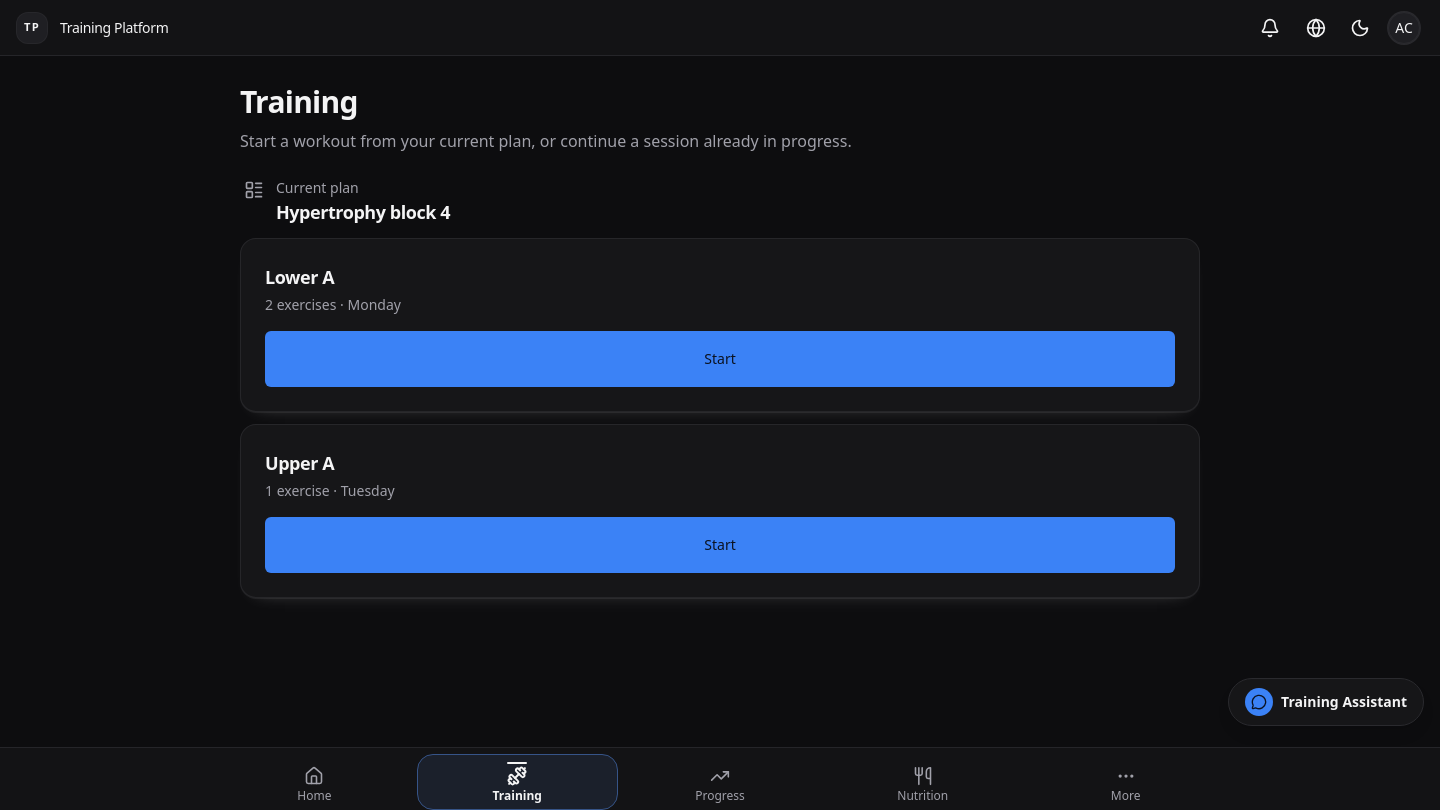
Workout experience › lists current plan workouts and starts a session
Expected: the heading "Training" is shown, [240,81,358,122]
Expected: the heading "Hypertrophy block 4" is shown, [276,198,450,226]
What coordinates should you click on to do the following:
click the button "Start" below "Lower A"
I would click on:
 (720, 359)
Its box is [265,331,1175,387].
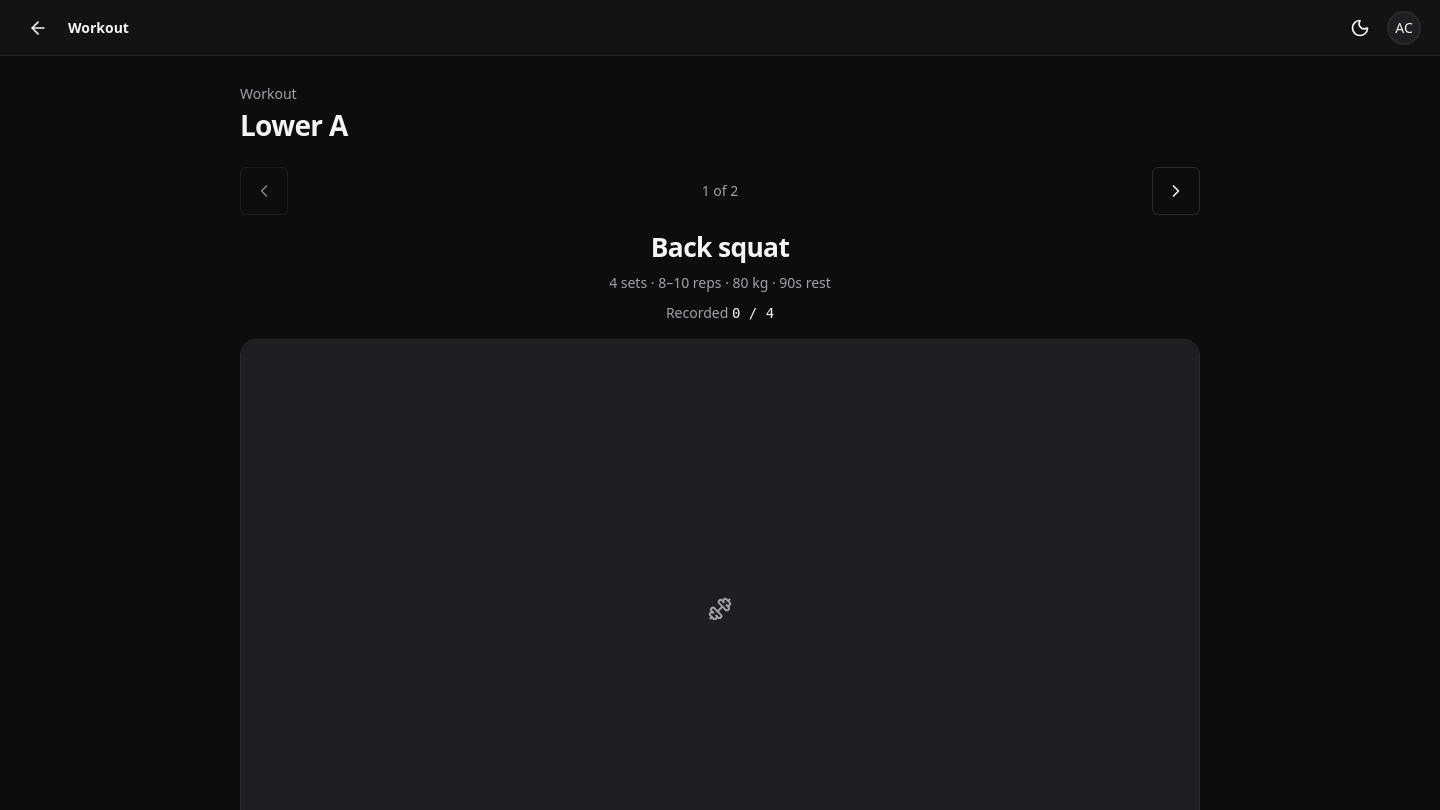
Now the link named "Close workout" is shown, box [28,18,48,38]
Now the heading "Back squat" is shown, box [651,229,789,265]
